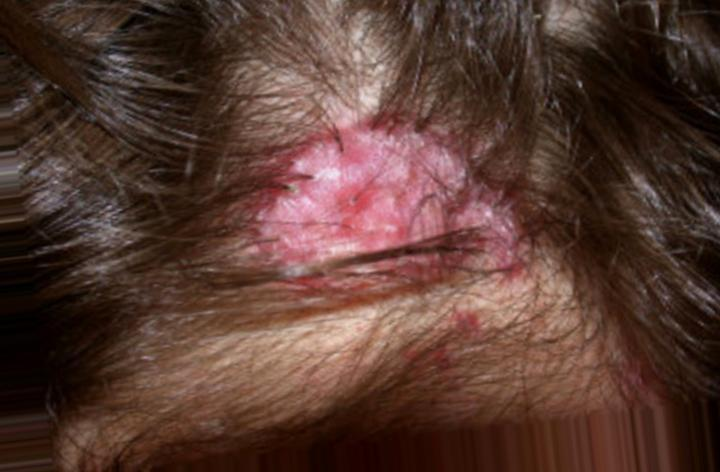Folliculitis: (279, 84, 511, 291)
